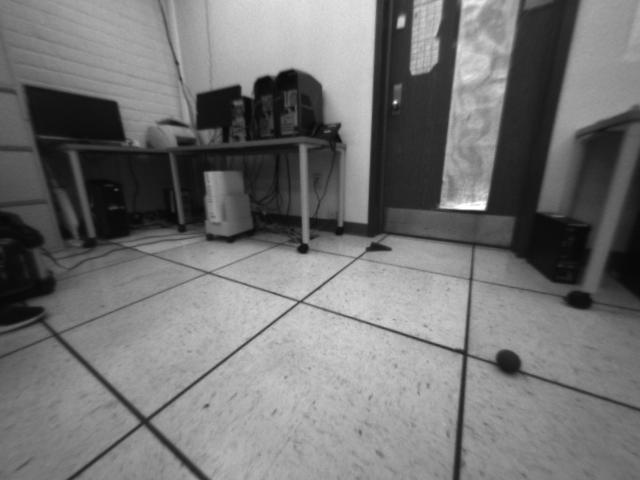dogtoy: (492, 345, 527, 381)
